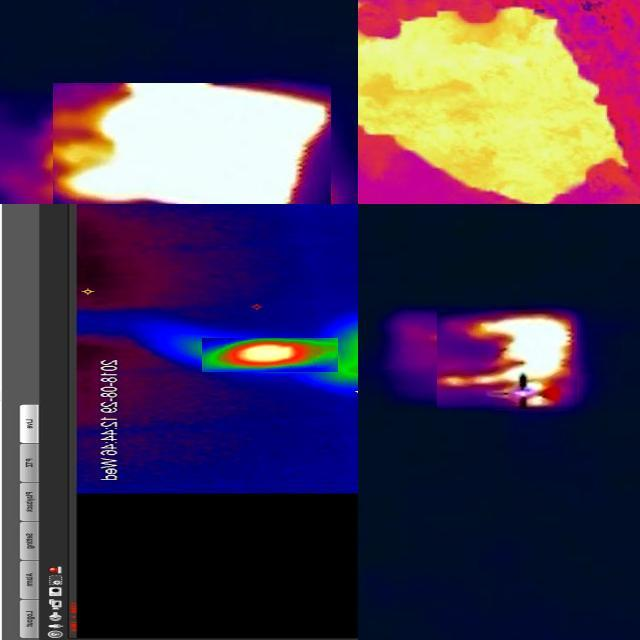fire: (359, 1, 640, 205), (53, 84, 331, 205), (437, 311, 577, 410), (202, 339, 338, 373)
